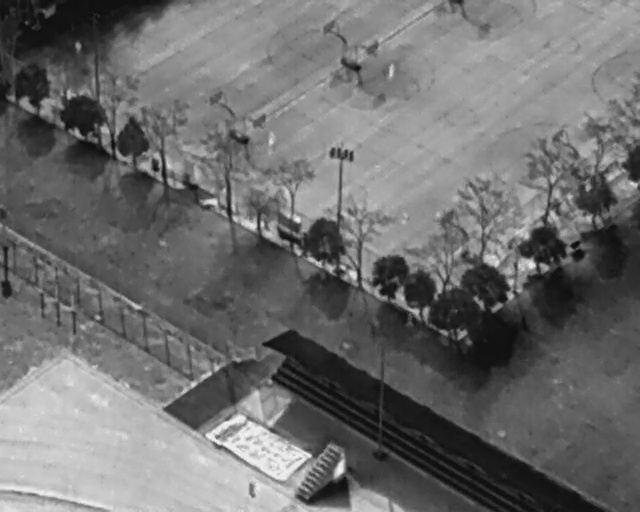Person: (267, 130, 275, 154), (388, 61, 396, 81), (400, 210, 409, 225), (72, 41, 84, 52)
